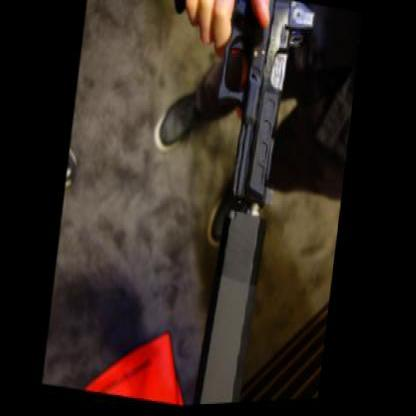pistol: (152, 0, 320, 224)
